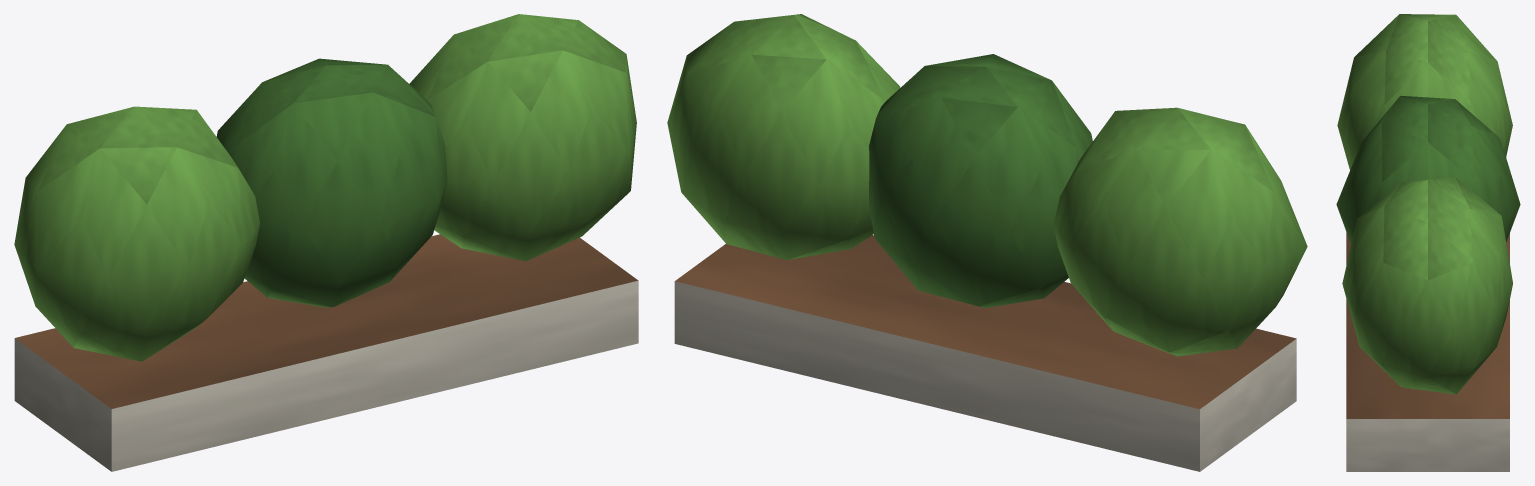
Rendered from hedge_01.glb.
3 views of the same model, side by side, from view 1: azimuth 30°, elevation 25°; view 2: azimuth 150°, elevation 25°; view 3: azimuth 270°, elevation 25° (orthographic). The views are drawn at different scales.
Visible parts, largest first — view 1: hedge_01; view 2: hedge_01; view 3: hedge_01.
Part boxes in pixels (<box>): hedge_01: <box>14,14,638,471</box>; hedge_01: <box>667,14,1307,471</box>; hedge_01: <box>1336,14,1520,471</box>.
Size of the model in its own units: 2.54 by 1.24 by 0.787.
Materials: 1 (1 with a texture image).
